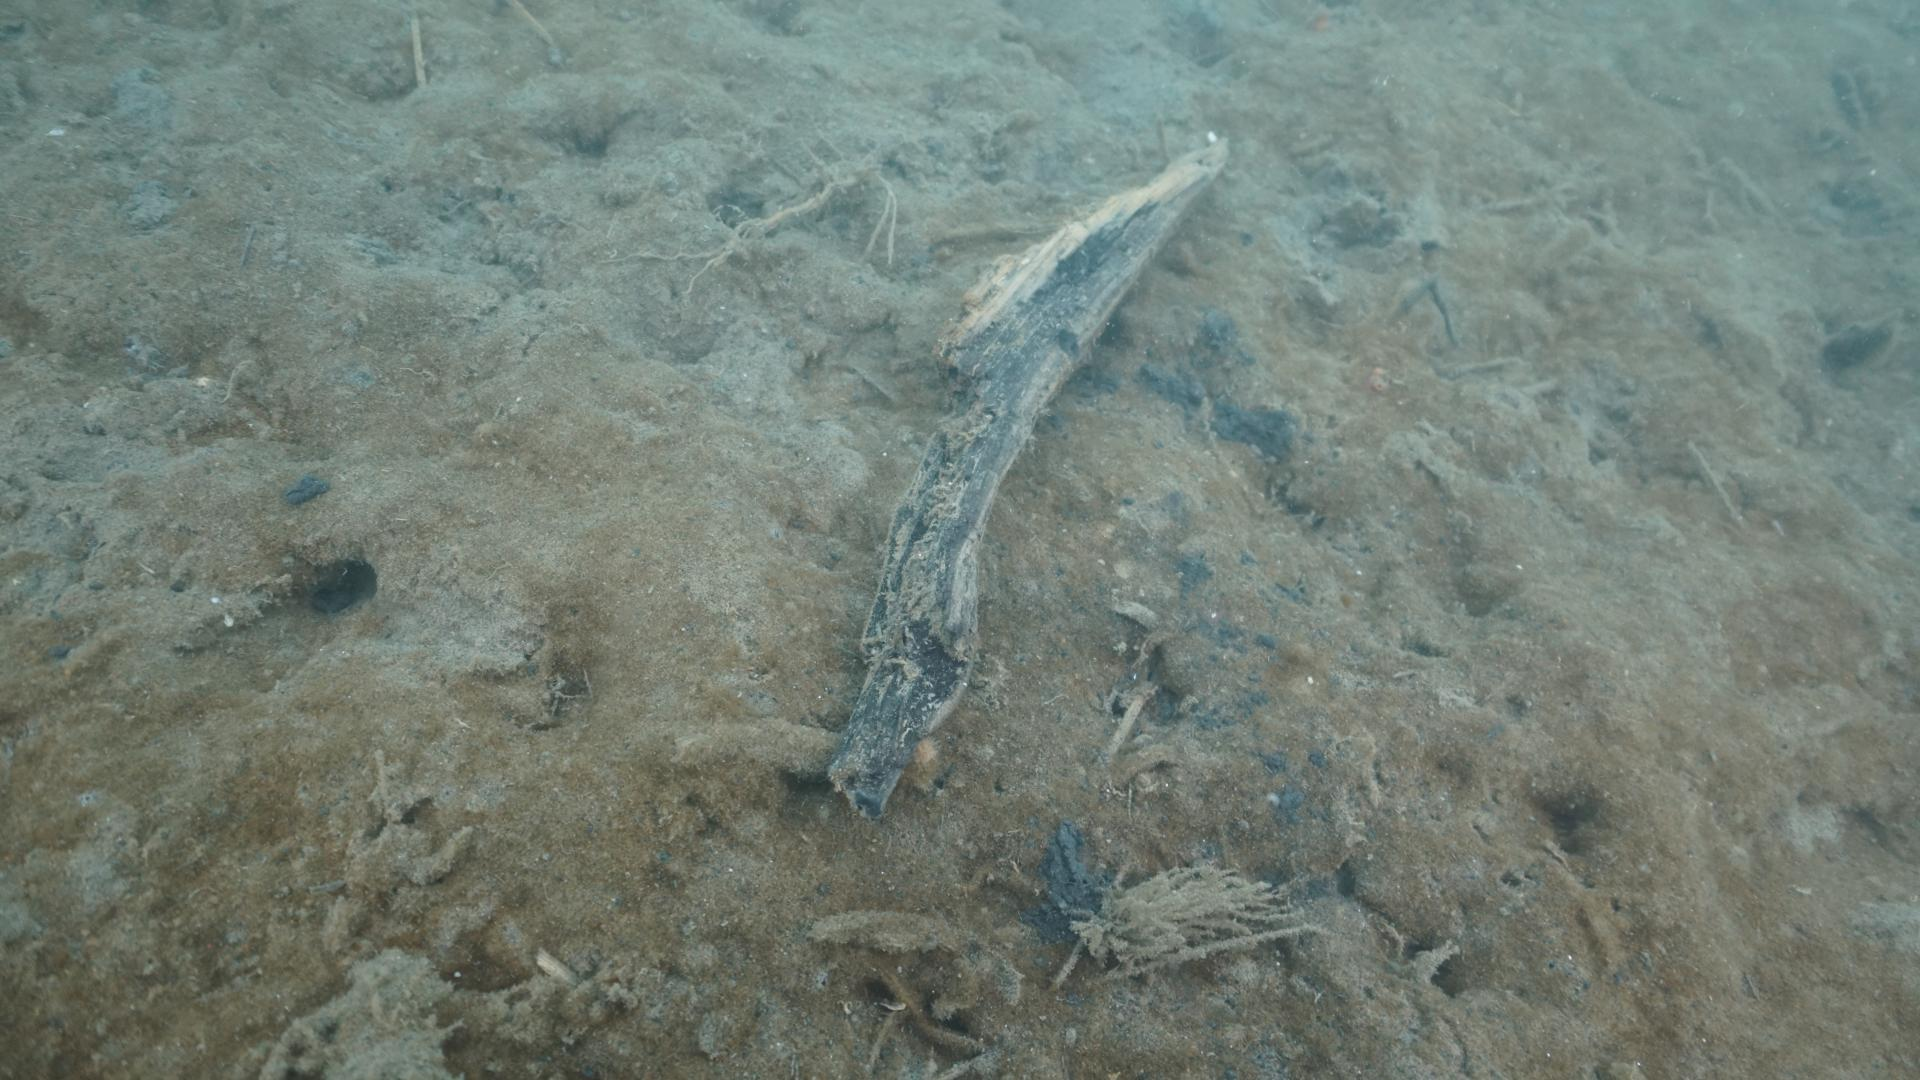wood: (825, 138, 1222, 808)
